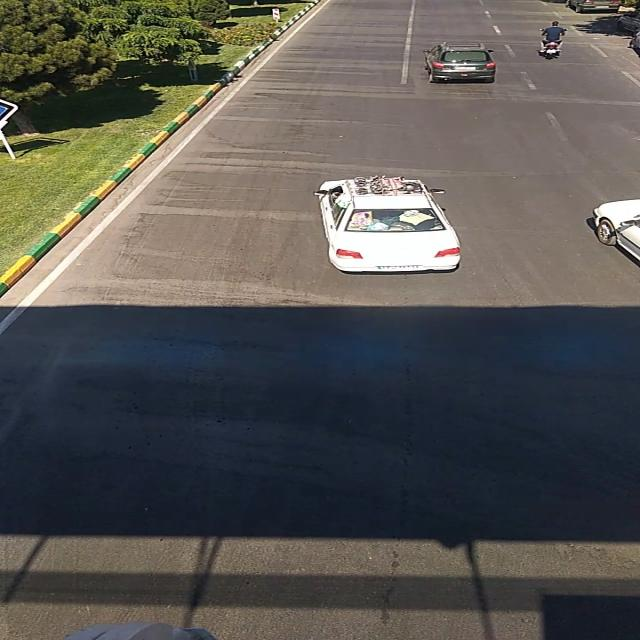car: (309, 179, 463, 273), (586, 192, 640, 268), (418, 41, 498, 83), (564, 0, 626, 13)
motor: (534, 20, 572, 60)
